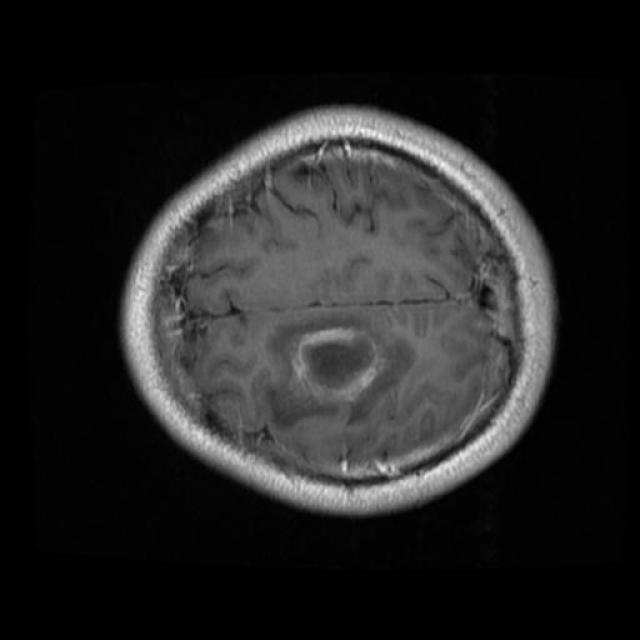Glioma: (297, 326, 374, 390)
